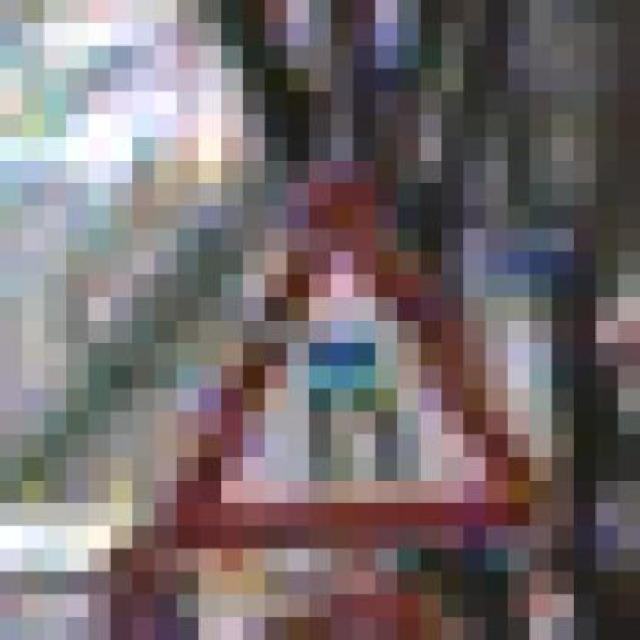-Road narrows on right: (132, 159, 574, 572)
